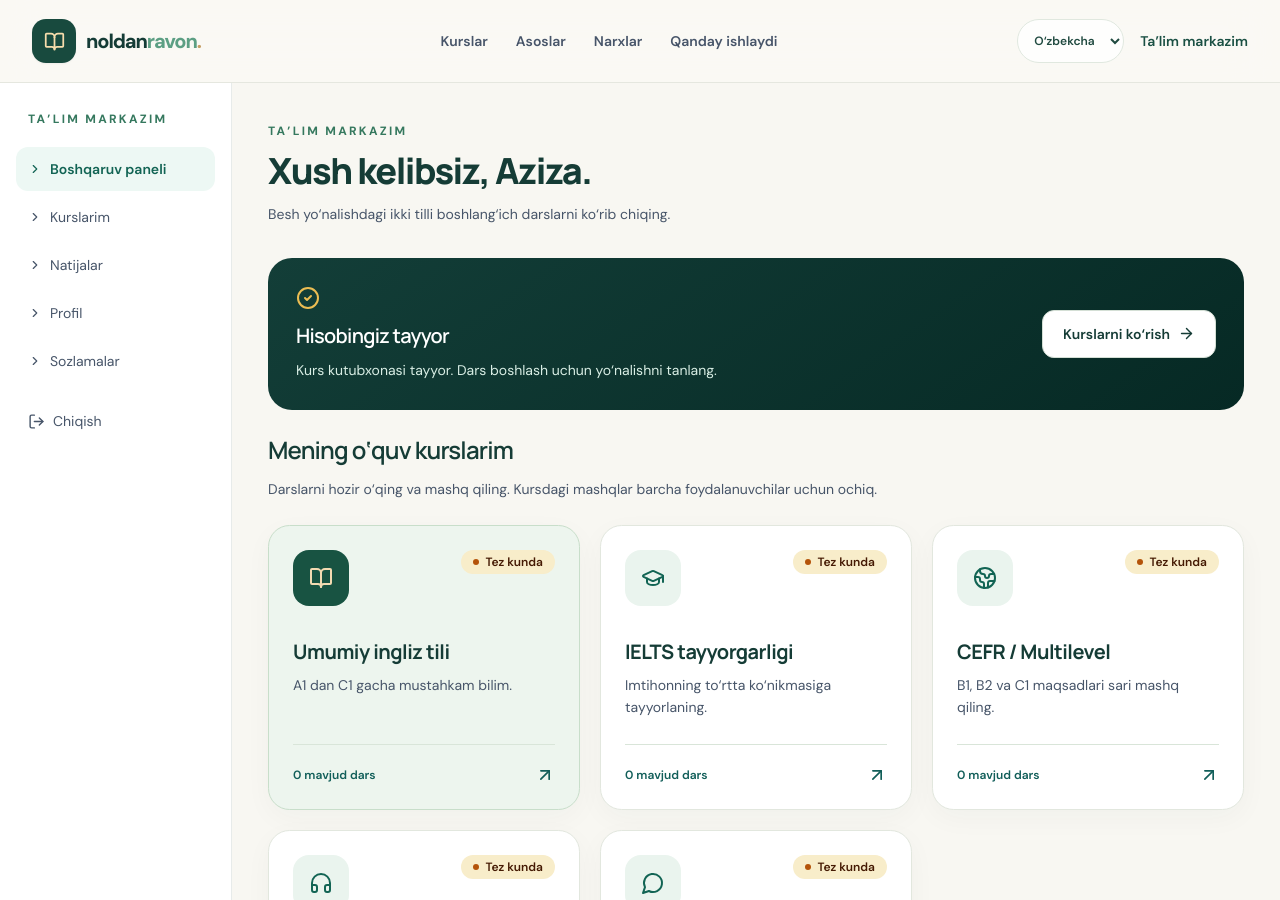
signing out from the workspace returns to the homepage, not the login screen
Click the button "Chiqish".
click(65, 421)  # box [16, 399, 114, 443]
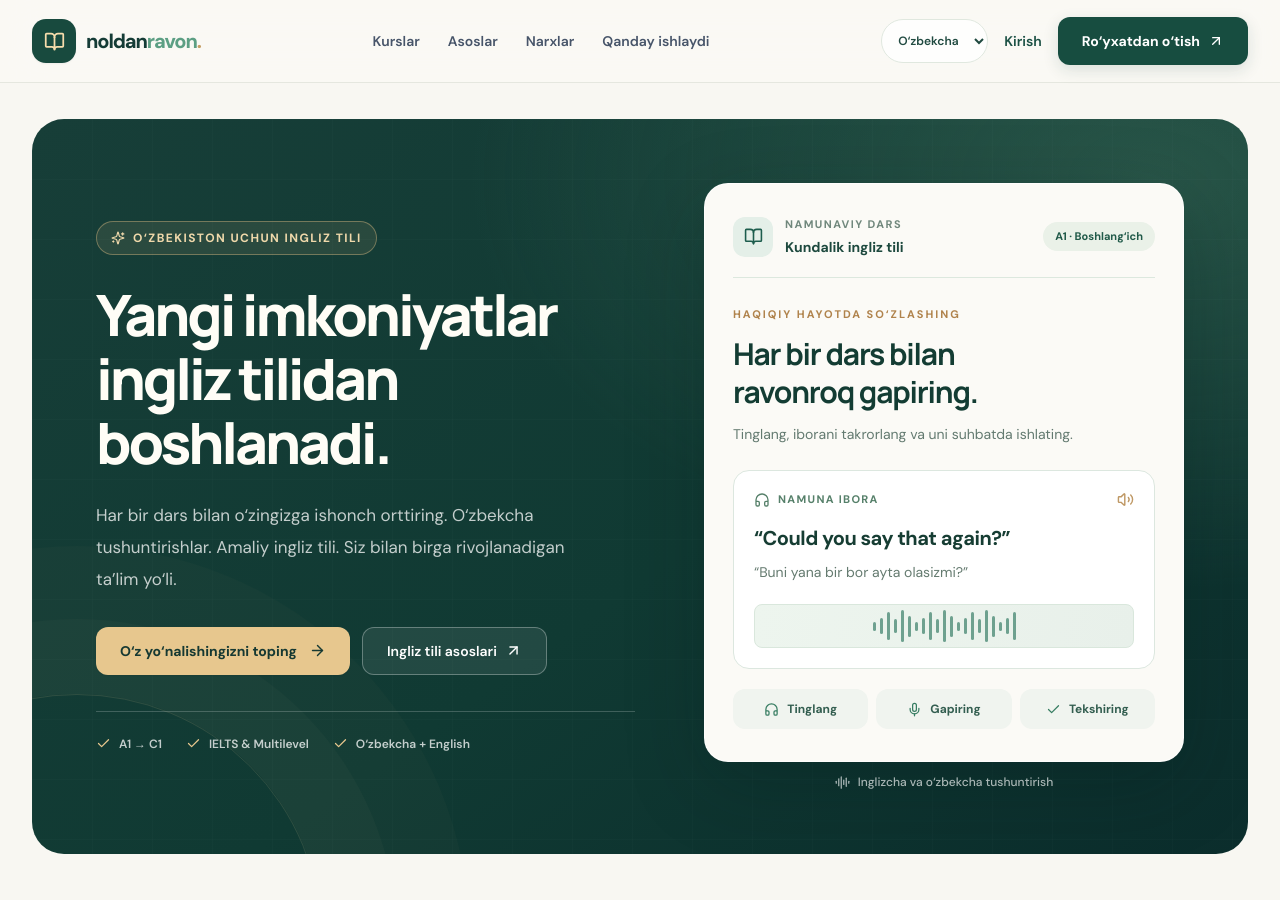
Check: the heading "Yangi imkoniyatlar ingliz tilidan boshlanadi." is shown, box [96, 284, 635, 475]
